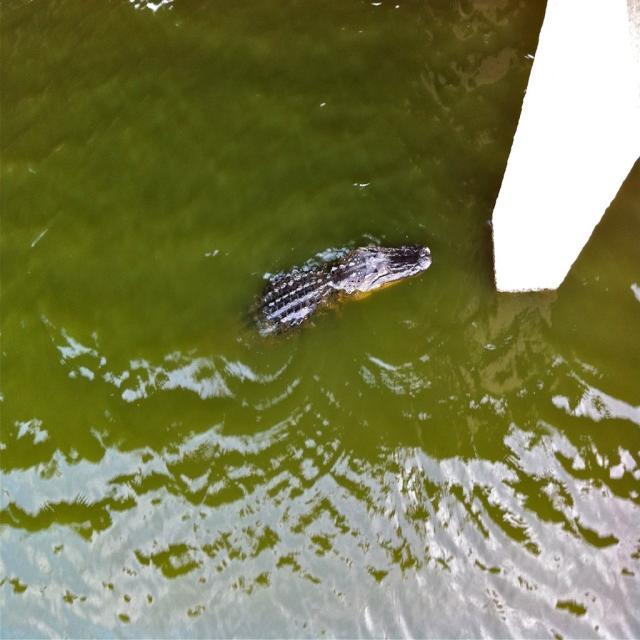crocodile: (261, 239, 434, 333)
